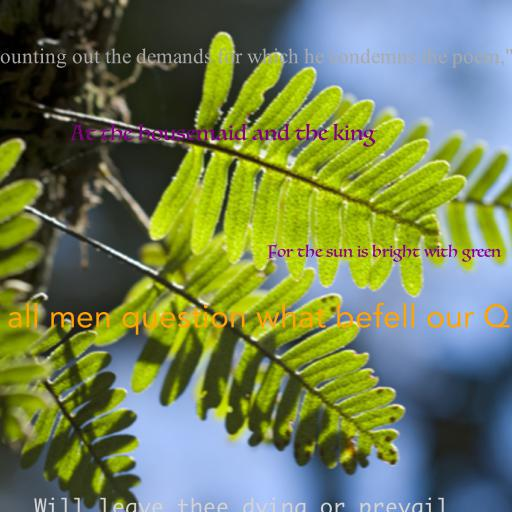Avenir: (0, 302, 512, 335)
Luminari: (71, 123, 375, 147), (267, 243, 501, 262)
Monaco: (34, 497, 450, 512)
Times New Roman: (0, 48, 512, 68)
